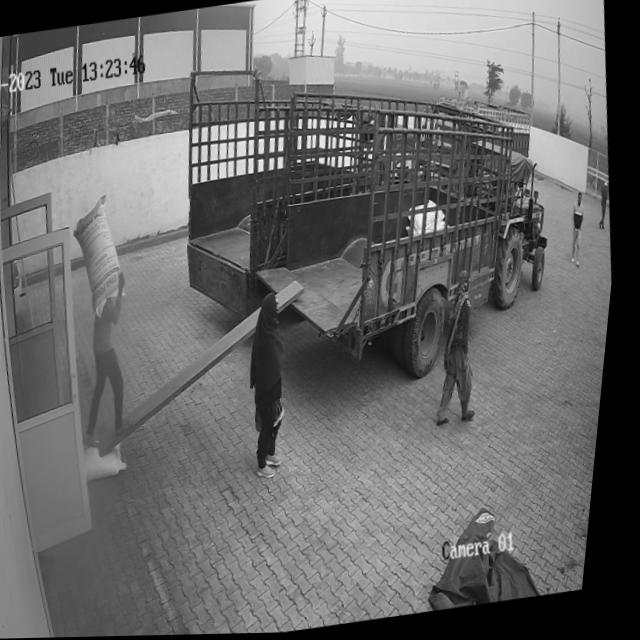sack: (67, 193, 140, 320), (90, 439, 140, 483)
